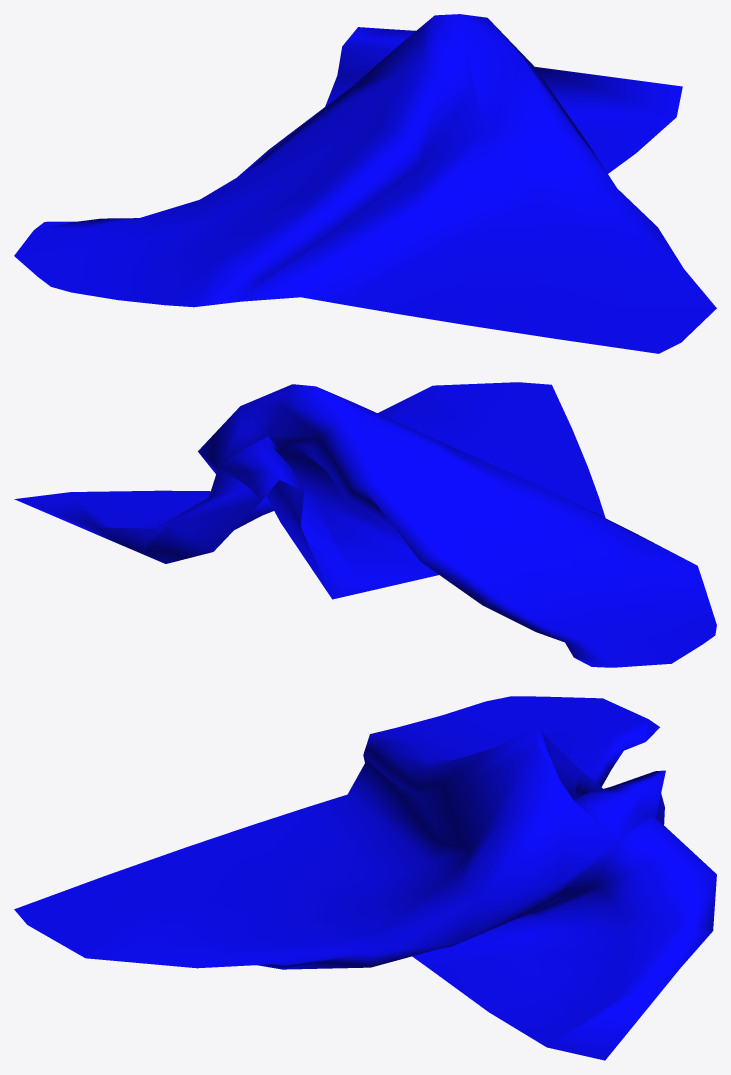
File: CleaningRoom_Cloth.fbx
3 views of the same model, one above another, from view 1: azimuth 30°, elevation 25°; view 2: azimuth 150°, elevation 25°; view 3: azimuth 270°, elevation 25° (orthographic). The views are drawn at different scales.
Parts seen in each view (by area): view 1: CleaningRoom_Cloth; view 2: CleaningRoom_Cloth; view 3: CleaningRoom_Cloth.
Part boxes in pixels (x1=…): CleaningRoom_Cloth: x1=14, y1=14, x2=716, y2=353; CleaningRoom_Cloth: x1=14, y1=382, x2=716, y2=667; CleaningRoom_Cloth: x1=14, y1=696, x2=716, y2=1060.
Size of the model in its own units: 184 by 43.69 by 148.
